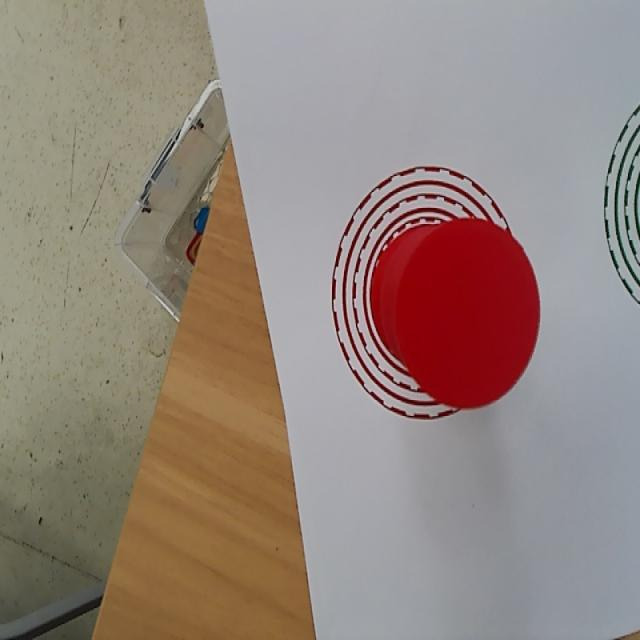r: (394, 217, 541, 409)
